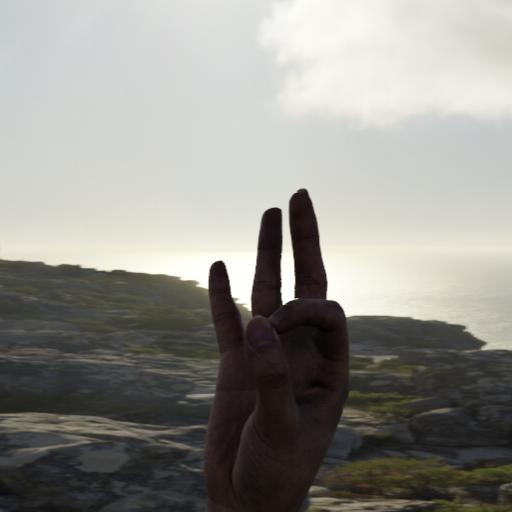F: (182, 166, 372, 510)
